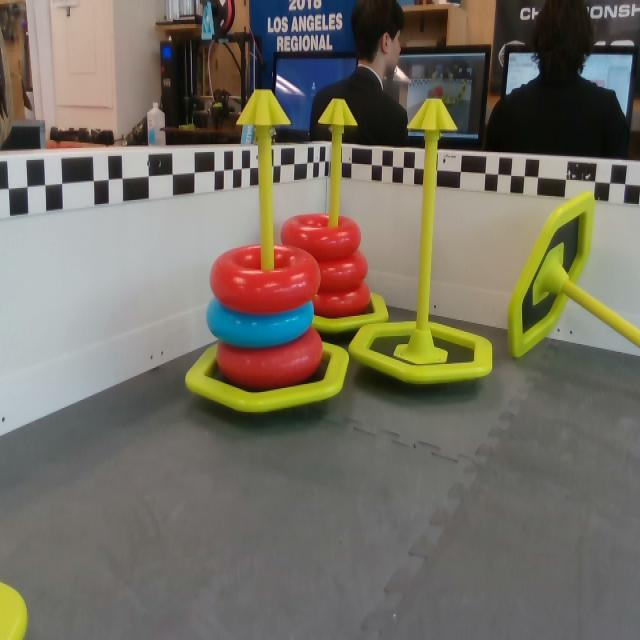Blue-Ring: (207, 301, 317, 347)
Mobile-Goal: (180, 84, 356, 418), (348, 93, 494, 392), (284, 97, 393, 334), (505, 191, 639, 366), (0, 581, 28, 636)
Red-Ring: (209, 244, 324, 316), (215, 330, 326, 386), (280, 211, 362, 261), (318, 249, 372, 292), (313, 285, 373, 316)
Yellow-Stake-Head: (236, 88, 292, 130), (406, 96, 458, 136), (317, 97, 360, 127)
